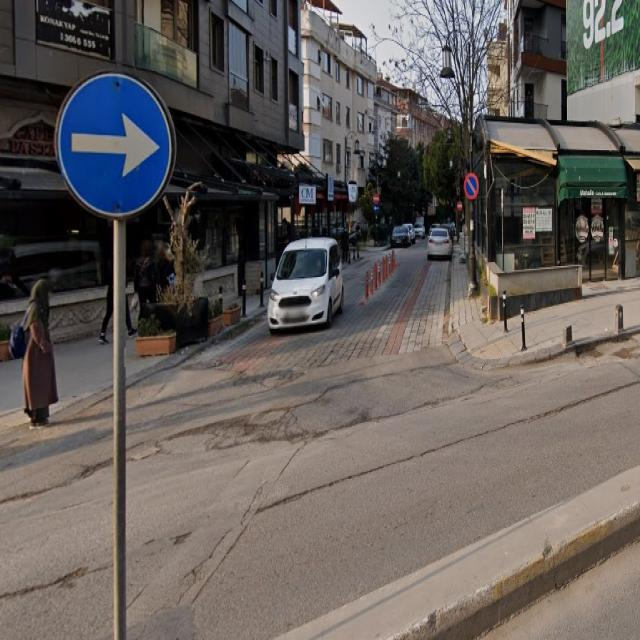Turn Right: (48, 79, 174, 218)
